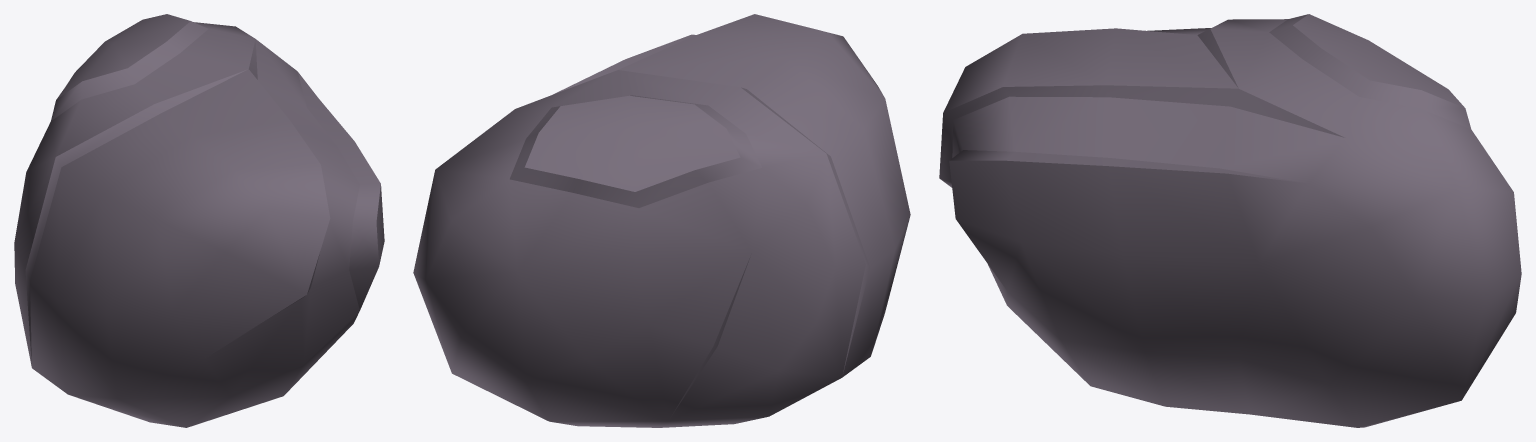
Rendered from P_stone_05.fbx.
3 views of the same model, side by side, from view 1: azimuth 30°, elevation 25°; view 2: azimuth 150°, elevation 25°; view 3: azimuth 270°, elevation 25° (orthographic). The views are drawn at different scales.
Visible parts, largest first — view 1: lod1; view 2: lod1; view 3: lod1.
Part boxes in pixels (box(x1,y1,x2,y2)): lod1: box(14, 14, 384, 427); lod1: box(413, 14, 910, 427); lod1: box(939, 14, 1521, 427).
Size of what is drawn, in the model's own units: 375 by 345 by 494.
